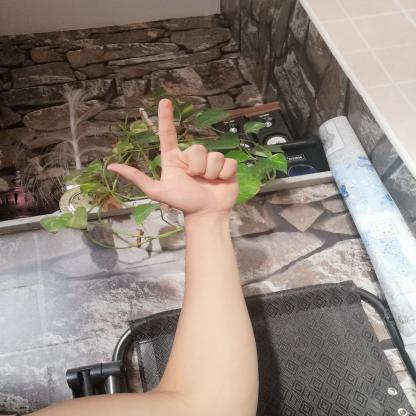LAAM: (95, 93, 246, 223)
